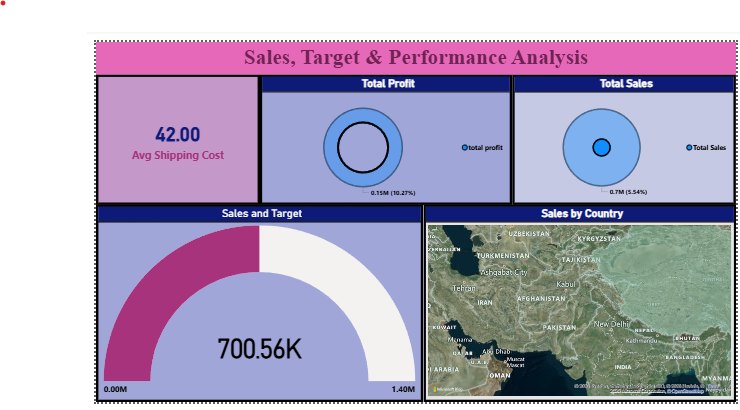

This screenshot's page, from the dashboard's own definition file:
{"tool":"powerbi","page":{"name":"Page 1","canvas":[1280,720],"ordinal":0},"visuals":[{"type":"filledMap","title":" Sales by Country","fields":{"Category":["Orders.Country"]},"box":[654.5,325.2,625.7,395.2],"z":0},{"type":"gauge","title":" Sales and Target","fields":{"Y":["Sum(Orders.Sales)"],"TargetValue":["Orders.Target"]},"box":[0,325.2,654.5,395.2],"z":1000},{"type":"pieChart","fields":{"Y":["Orders.Total Sales"]},"box":[832.9,64.5,447.3,260.7],"z":2000},{"type":"donutChart","title":"Total Profit","fields":{"Y":["Orders.total profit"]},"box":[328,64.5,505,260.7],"z":3000},{"type":"card","fields":{"Values":["Orders.Avg Shipping Cost"]},"box":[0,64.5,328,260.7],"z":4000},{"type":"textbox","box":[0,0,1280.3,64.5],"z":5000}]}

Visuals, with their boxes in screenshot pixels (x1, y1, x2, y2), scaled from the page's 1280x720 canvas onto the 740x410 screenshot:
" Sales by Country" filledMap: (378, 185, 739, 409)
" Sales and Target" gauge: (0, 185, 378, 409)
pieChart - Orders.Total Sales: (482, 37, 739, 185)
"Total Profit" donutChart: (190, 37, 482, 185)
card - Orders.Avg Shipping Cost: (0, 37, 190, 185)
textbox: (0, 0, 739, 37)
